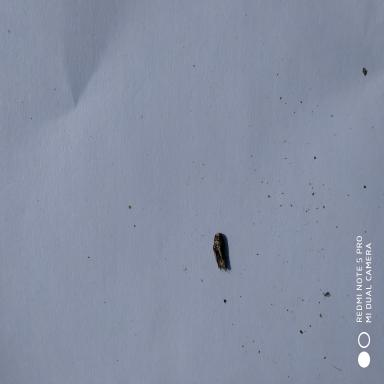pbw: (213, 228, 230, 276)
